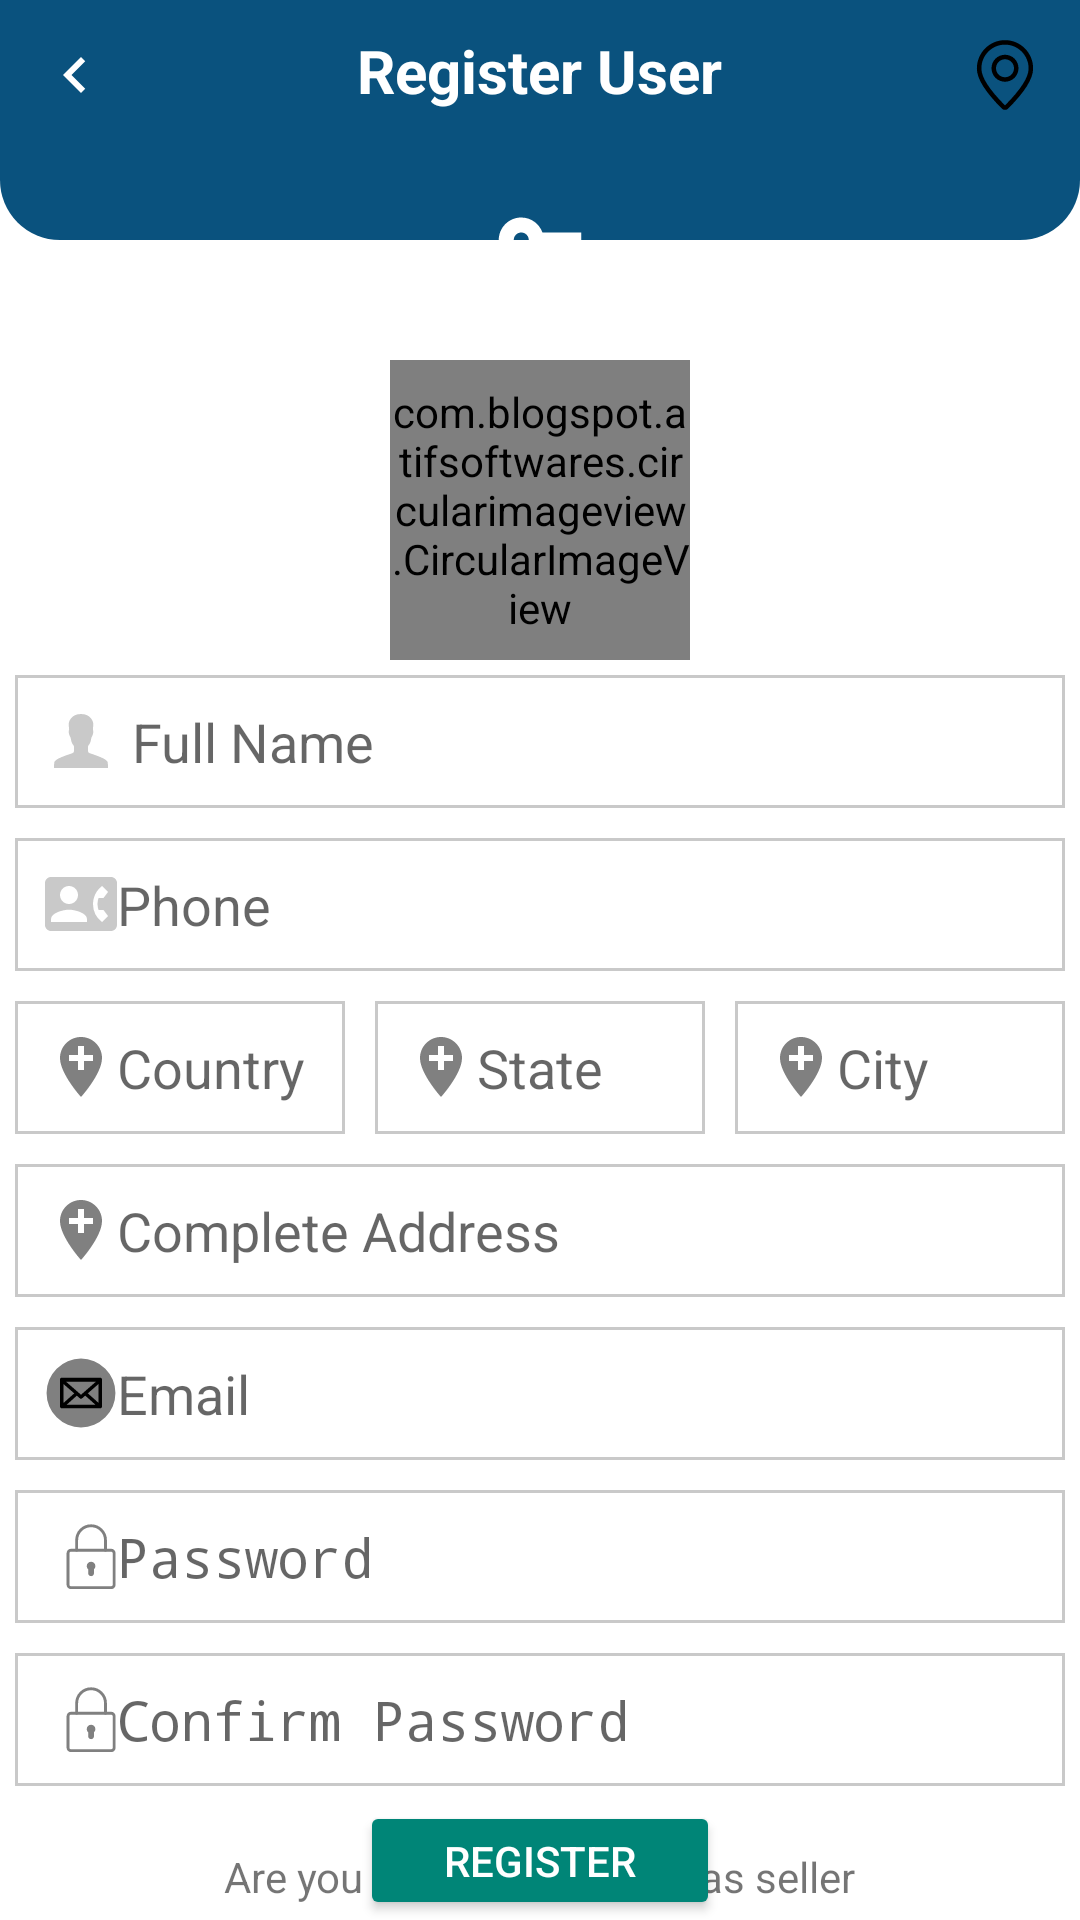

Point at icon controls on the screen. Image size 1080w x 1920h, points as point (x, y).
back: point (74, 75)
